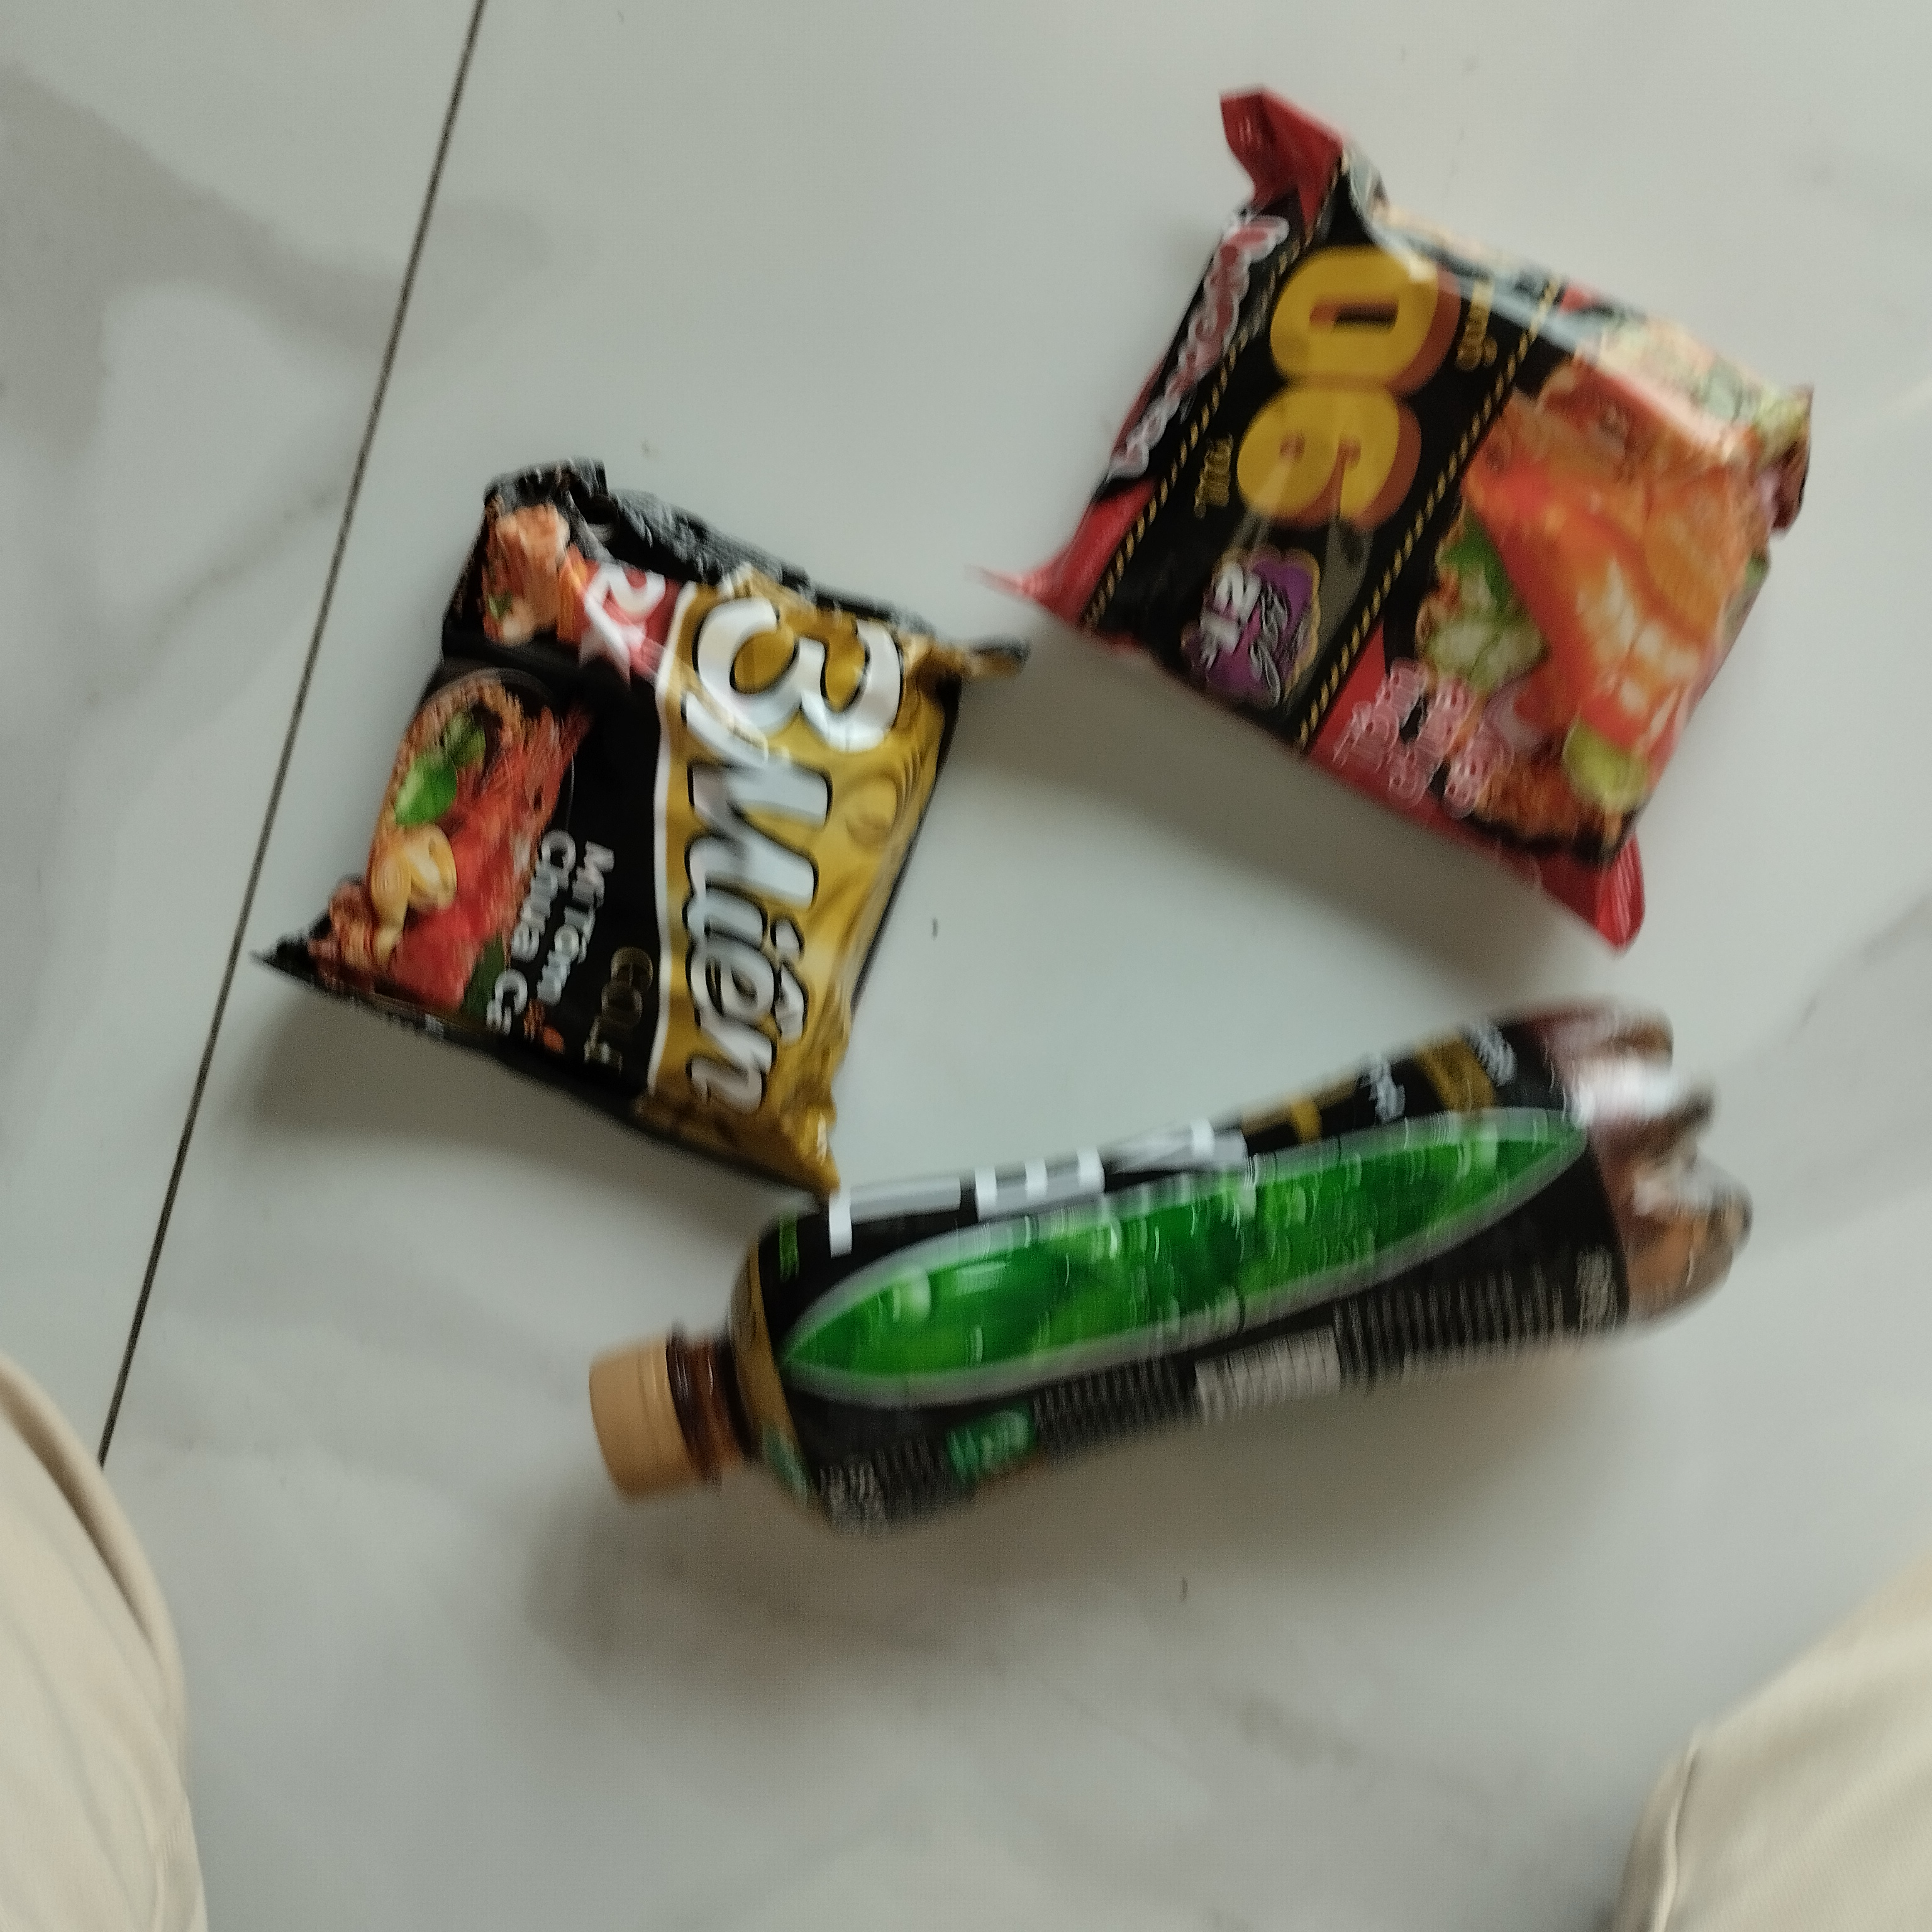3mien: (248, 444, 980, 1214)
Kokomi: (998, 76, 1835, 971)
Olong: (577, 984, 1762, 1583)
